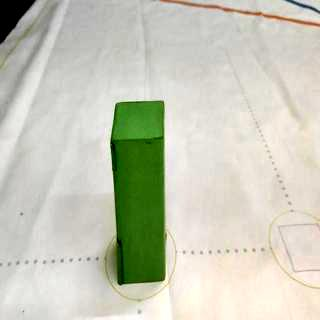greenbox: (111, 99, 172, 286)
